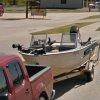Boat: (13, 21, 100, 82)
